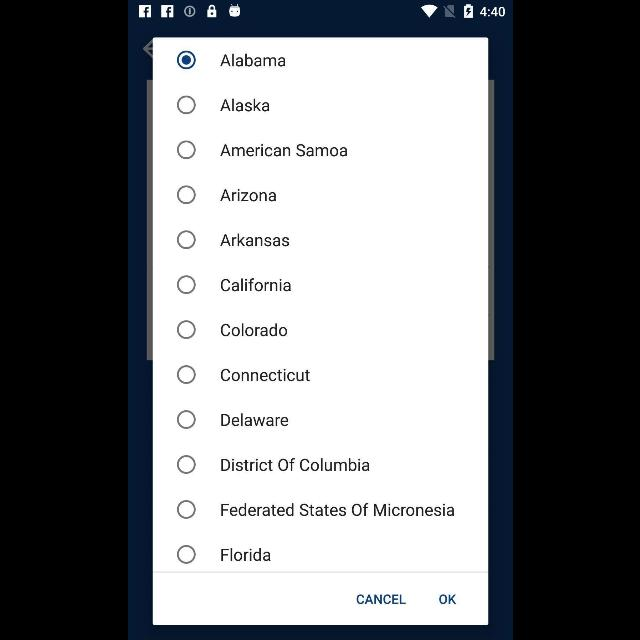checkbox: (177, 499, 196, 518), (177, 230, 195, 250), (176, 320, 194, 340), (176, 544, 194, 564), (176, 51, 194, 69), (176, 96, 194, 114), (176, 141, 194, 159), (176, 186, 194, 204), (176, 276, 194, 294), (176, 366, 194, 384), (177, 411, 195, 429), (176, 455, 194, 473)
panel: (152, 38, 488, 624)
text: (221, 504, 454, 516), (220, 458, 368, 472), (220, 144, 346, 156), (220, 368, 310, 382), (220, 278, 290, 292), (220, 234, 288, 246), (220, 414, 288, 426), (220, 324, 286, 336), (220, 188, 276, 202), (220, 54, 284, 66), (220, 548, 270, 562), (220, 98, 268, 112)
textbutton: (356, 594, 404, 604), (438, 594, 456, 604)
uppertaskbar: (128, 1, 512, 23)
